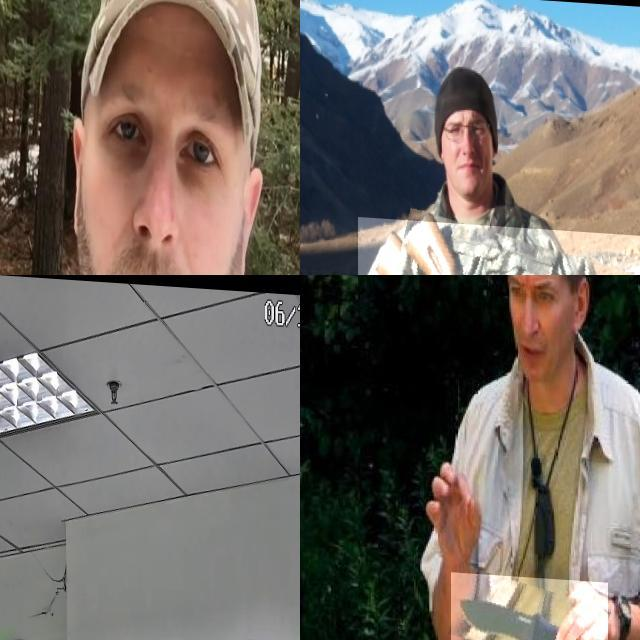-: (0, 0, 112, 275), (451, 569, 608, 640)
